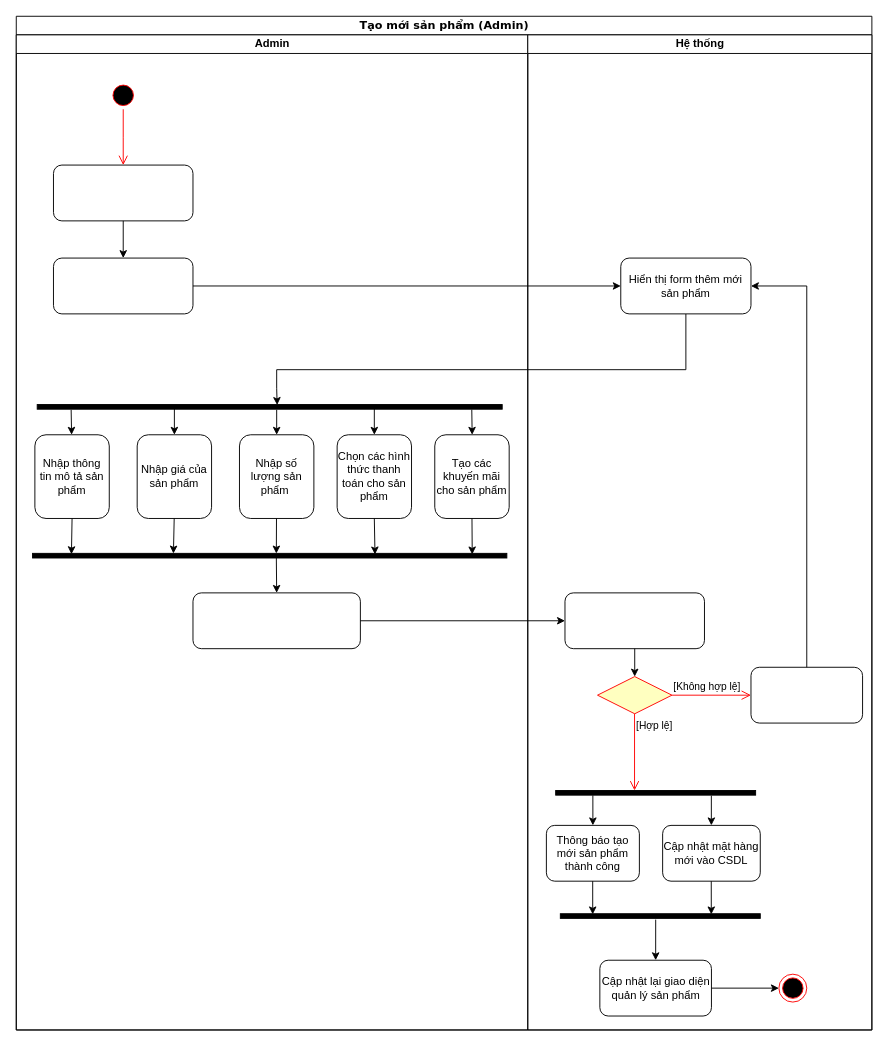
Image size: 888x1046. Some labels were removed from this diagram. The centre of each missing label's shape, as x and y in pixels:
"Chọn chức năng quản lý sản phẩm" goes at point 123,192.
"Chọn tạo mới sản phẩm" goes at point 123,285.
"Chọn xác nhận thêm mới" goes at point 276,620.
"Kiểm tra thông tin trong form thêm mới sản phẩm" goes at point 634,620.
"Thông báo tạo mới sản phẩm thất bại" goes at point 806,694.
